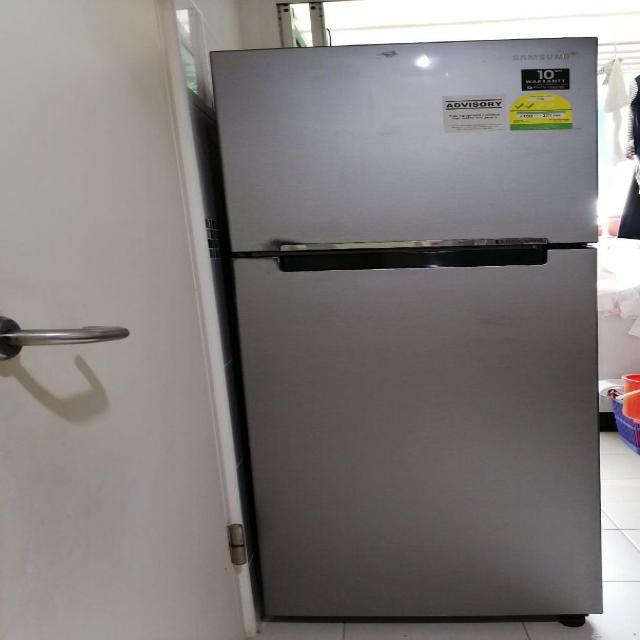refrigerator: (209, 35, 598, 621)
